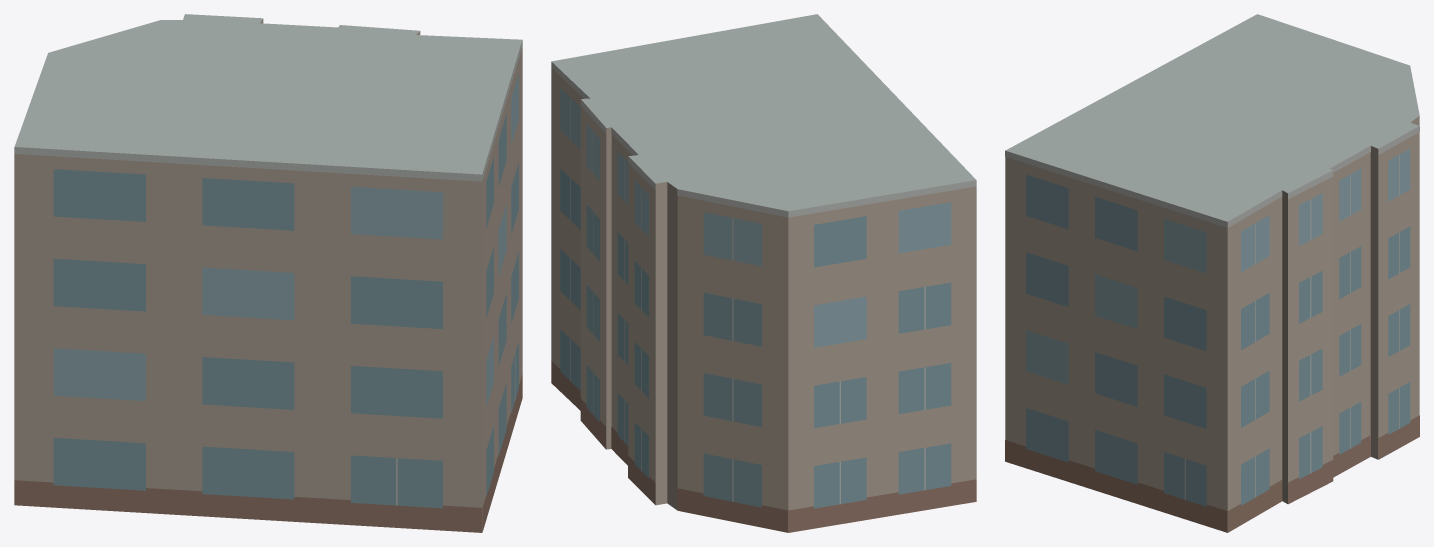
The model's file is survey-upis-32924522.glb.
3 views of the same model, side by side, from view 1: azimuth 30°, elevation 25°; view 2: azimuth 150°, elevation 25°; view 3: azimuth 270°, elevation 25° (orthographic). The views are drawn at different scales.
Visible parts, largest first — view 1: survey-upis-32924522.tmp; view 2: survey-upis-32924522.tmp; view 3: survey-upis-32924522.tmp.
Part boxes in pixels (x1,y1,x2,y2): survey-upis-32924522.tmp: [14, 14, 522, 532]; survey-upis-32924522.tmp: [551, 14, 976, 532]; survey-upis-32924522.tmp: [1005, 14, 1419, 532].
Bounding box in the file's own units: 17.79 × 12.4 × 14.99.
